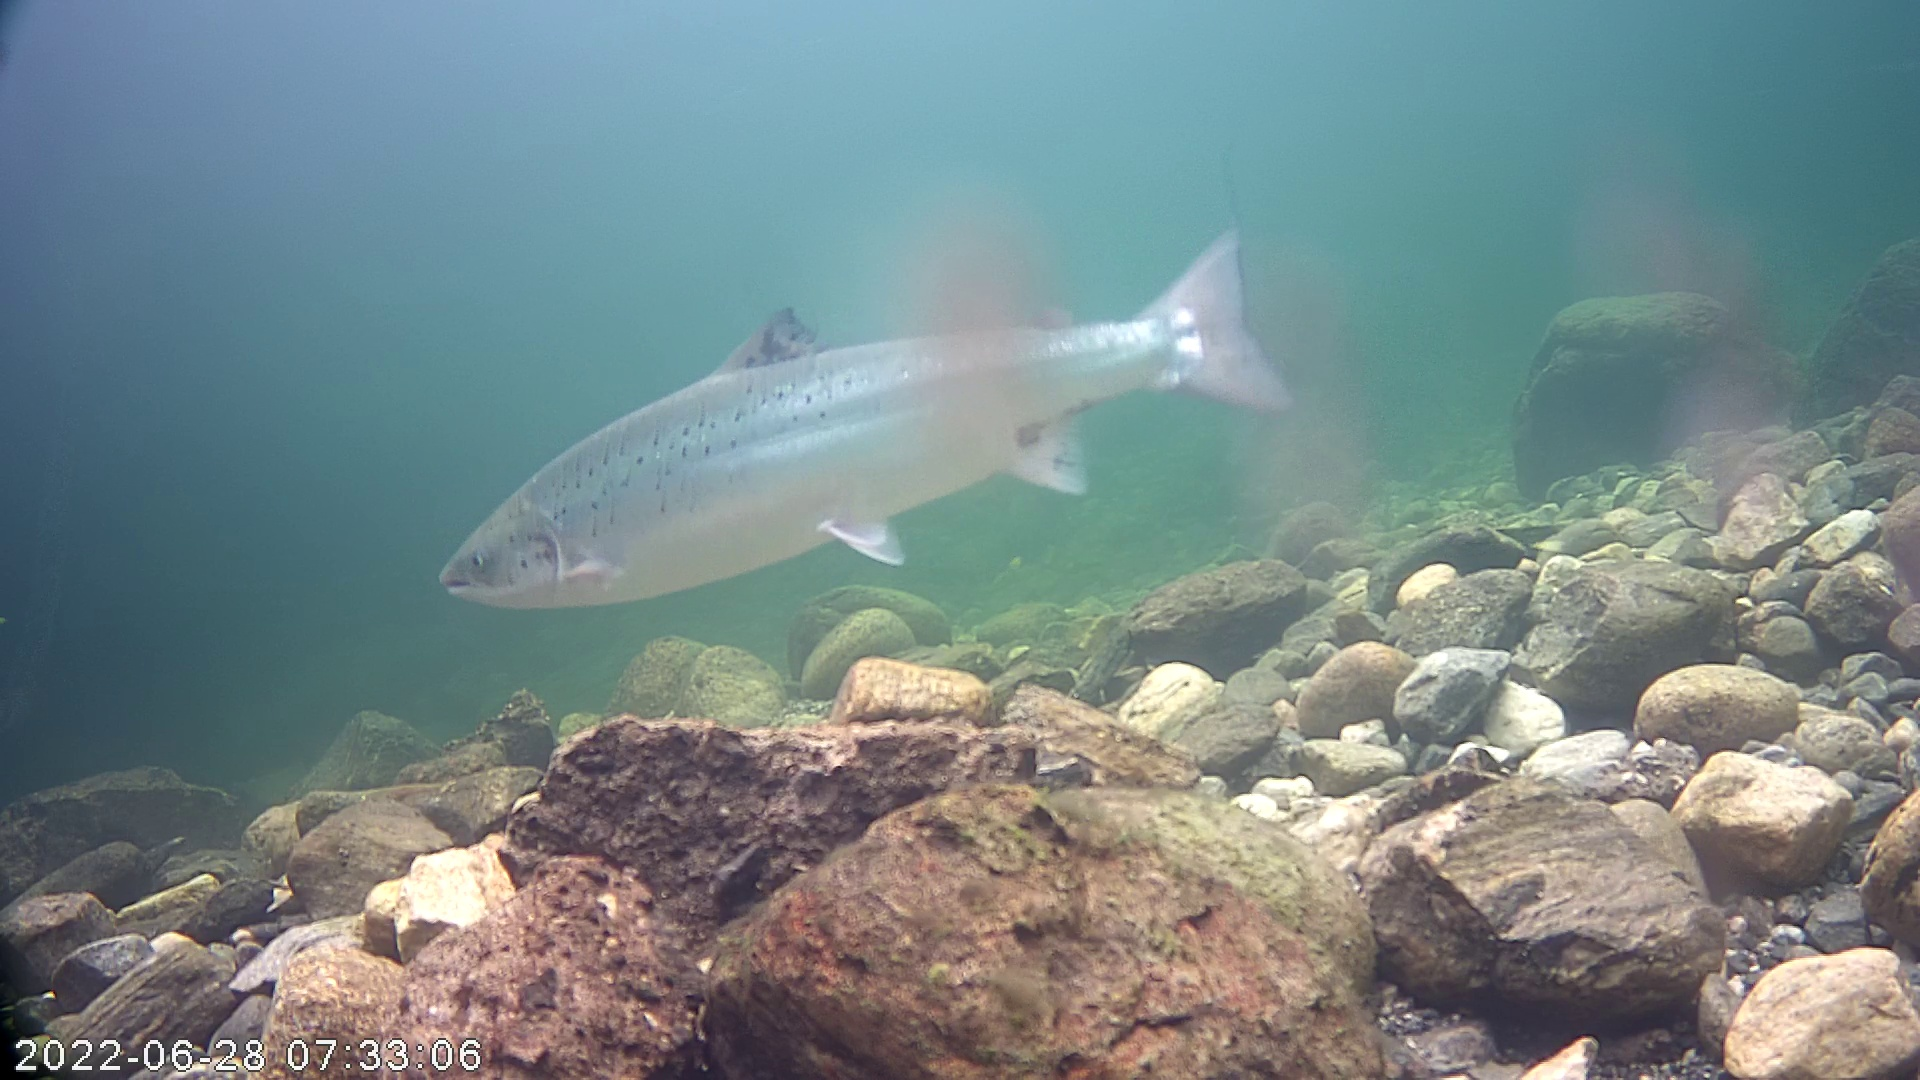salmon: (431, 157, 1313, 634)
